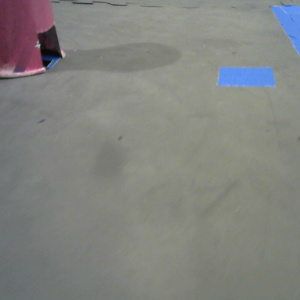middle: (1, 1, 66, 77)
